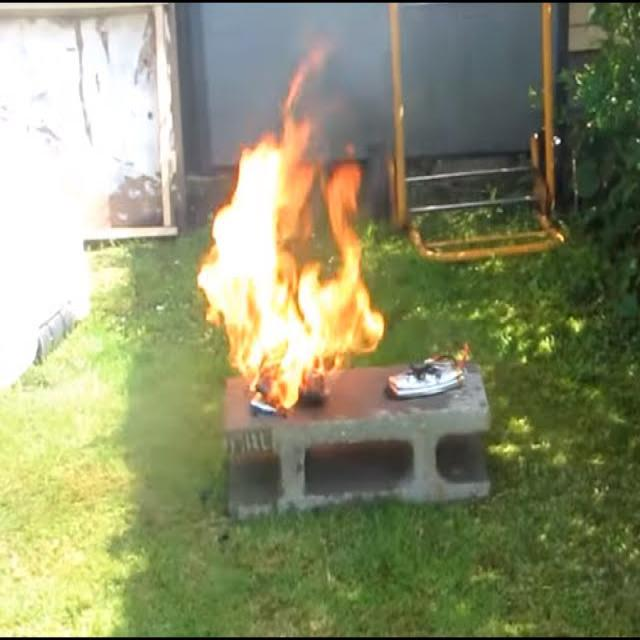fire: (199, 128, 379, 417)
